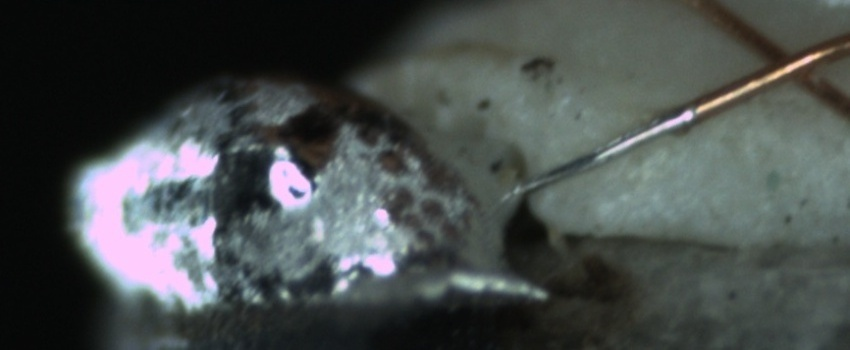CL: (728, 24, 836, 99)
TS: (515, 105, 698, 202)
